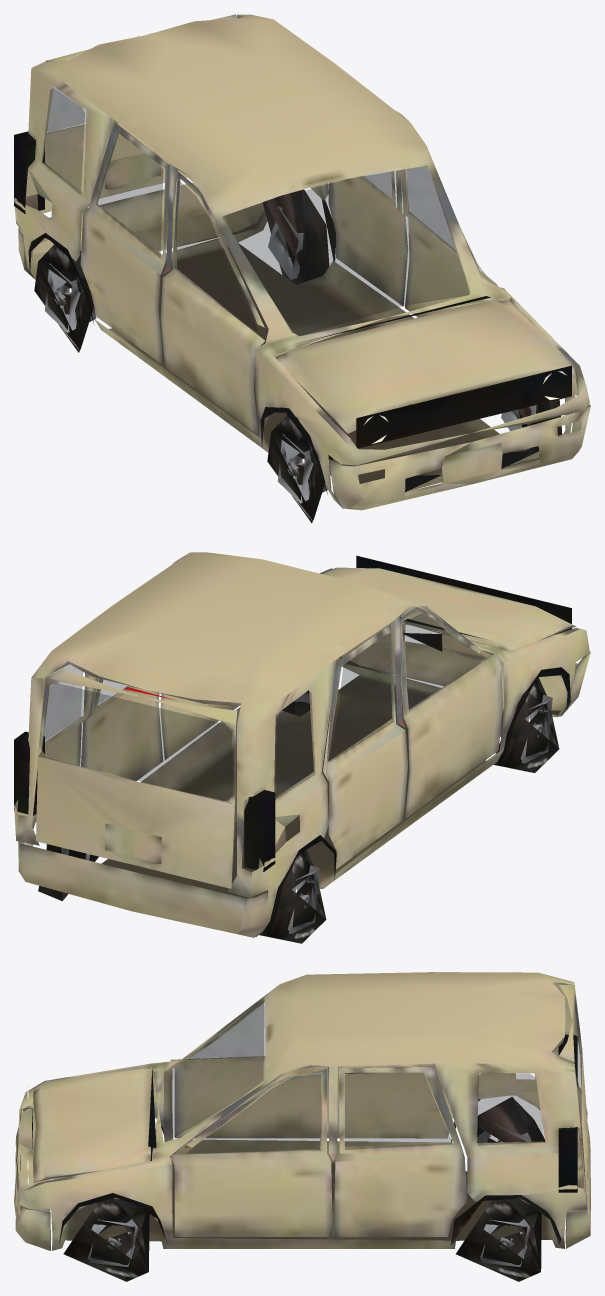
File: mame_lod2.glb
3 views of the same model, one above another, from view 1: azimuth 30°, elevation 25°; view 2: azimuth 150°, elevation 25°; view 3: azimuth 270°, elevation 25° (orthographic). The views are drawn at different scales.
Visible parts, largest first — view 1: Body, Wheel_RL, Wheel_RR, Wheel_FR, Wheel_FL; view 2: Body, Wheel_RR, Wheel_FR, Wheel_RL; view 3: Body, Wheel_RL, Wheel_FL, Wheel_RR.
Part boxes in pixels (box(x1,y1,x2,y2)): Body: box(14, 14, 590, 510); Wheel_RL: box(262, 189, 329, 284); Wheel_RR: box(34, 244, 96, 352); Wheel_FR: box(267, 415, 332, 523); Wheel_FL: box(501, 399, 562, 451); Body: box(14, 552, 590, 937); Wheel_RR: box(259, 849, 326, 943); Wheel_FR: box(493, 678, 559, 772); Wheel_RL: box(38, 844, 98, 901); Body: box(14, 972, 590, 1250); Wheel_RL: box(456, 1199, 541, 1281); Wheel_FL: box(63, 1198, 149, 1281); Wheel_RR: box(477, 1097, 545, 1142).
Size of what is drawn, in the model's own units: 1.47 by 1.48 by 3.43.
2 materials, 2 textured.
